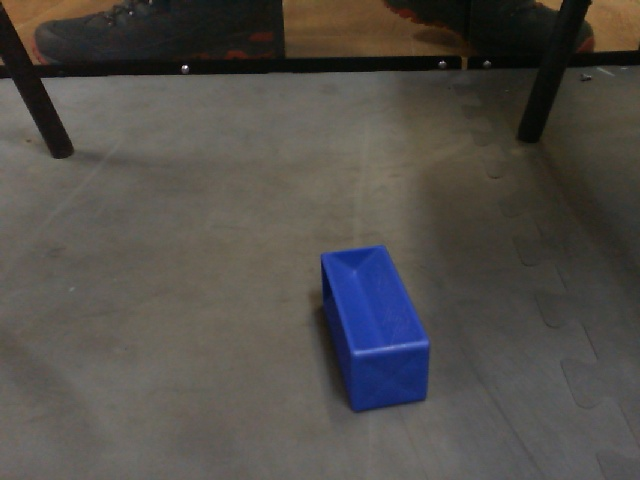BlueSample: (316, 239, 433, 414)
